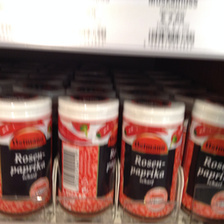spices: (120, 98, 184, 220), (58, 95, 119, 215), (1, 94, 53, 217), (183, 99, 224, 220)
